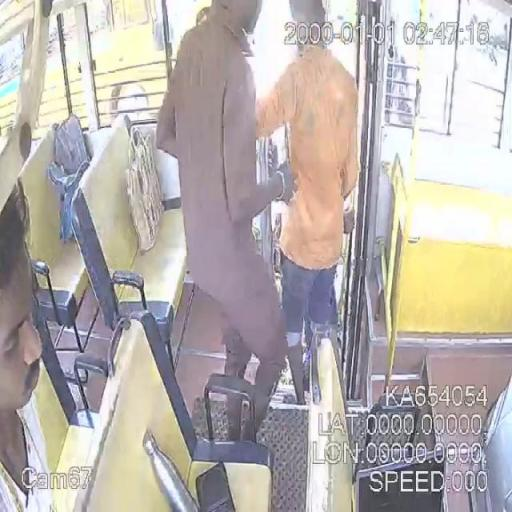persona: (154, 0, 296, 440), (254, 1, 361, 406), (0, 178, 54, 511)
